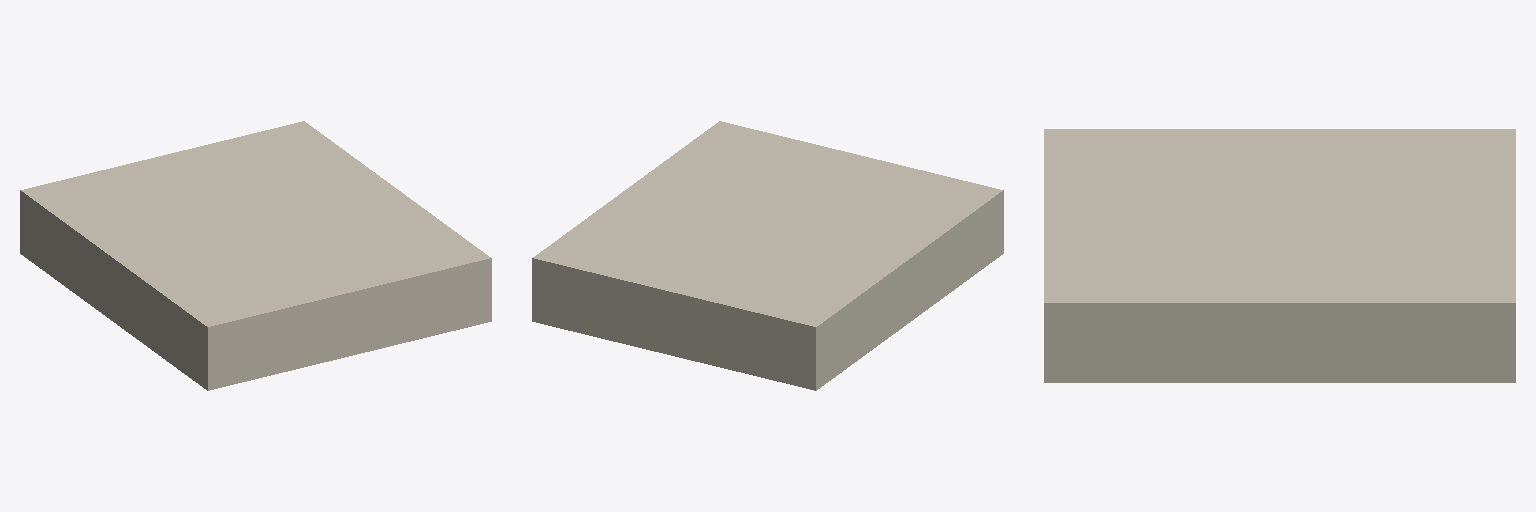
URDF robot description (laptop):
<?xml version="1.0"?>
<robot name="laptop">
  <!-- base / keyboard chassis sitting on table -->
  <link name="base_link">
    <visual>
      <origin xyz="0 0 0" rpy="0 0 0"/>
      <geometry>
        <box size="0.28 0.32 0.035"/>
      </geometry>
      <material name="beige">
        <color rgba="0.82 0.80 0.74 1.0"/>
      </material>
    </visual>
    <collision>
      <origin xyz="0 0 0" rpy="0 0 0"/>
      <geometry>
        <box size="0.28 0.32 0.035"/>
      </geometry>
    </collision>
    <inertial>
      <origin xyz="0 0 0" rpy="0 0 0"/>
      <mass value="1.6"/>
      <inertia ixx="0.0138167" ixy="0" ixz="0" iyy="0.0106167" iyz="0" izz="0.0241067"/>
    </inertial>
  </link>

  <!-- display lid -->
  <link name="lid_link">
    <visual>
      <origin xyz="0.14 0 0.0125" rpy="0 0 0"/>
      <geometry>
        <box size="0.28 0.32 0.025"/>
      </geometry>
      <material name="beige">
        <color rgba="0.82 0.80 0.74 1.0"/>
      </material>
    </visual>
    <collision>
      <origin xyz="0.14 0 0.0125" rpy="0 0 0"/>
      <geometry>
        <box size="0.28 0.32 0.025"/>
      </geometry>
    </collision>
    <inertial>
      <origin xyz="0.14 0 0.0125" rpy="0 0 0"/>
      <mass value="0.6"/>
      <inertia ixx="0.0051512" ixy="0" ixz="0" iyy="0.0039512" iyz="0" izz="0.00904"/>
    </inertial>
  </link>

  <!-- rear hinge: closed at 0, open ~90-105 deg -->
  <joint name="lid_hinge" type="revolute">
    <parent link="base_link"/>
    <child link="lid_link"/>
    <origin xyz="-0.14 0 0.0175" rpy="0 0 0"/>
    <axis xyz="0 -1 0"/>
    <limit lower="0.0" upper="1.83" effort="5.0" velocity="2.0"/>
    <dynamics damping="0.15" friction="0.2"/>
  </joint>
</robot>

--- Render facts (derived) ---
Views: 3 orthographic renders of the robot side by side, from view 1: azimuth 30°, elevation 25°; view 2: azimuth 150°, elevation 25°; view 3: azimuth 270°, elevation 25°.
Robot: laptop — 2 links, 1 joints (1 revolute); root link base_link; default pose: every joint at zero.
Visible links, largest first — view 1: lid_link, base_link; view 2: lid_link, base_link; view 3: lid_link, base_link.
Boxes of the visible links, x1,y1,x2,y2 form: lid_link: [20, 121, 491, 353]; base_link: [20, 217, 491, 390]; lid_link: [532, 121, 1003, 353]; base_link: [532, 217, 1003, 390]; lid_link: [1044, 129, 1515, 335]; base_link: [1044, 336, 1515, 382].
Size in the robot's own frame: 0.28 by 0.32 by 0.06 metres.
Geometry: primitives only (box / cylinder / sphere), no mesh files.
